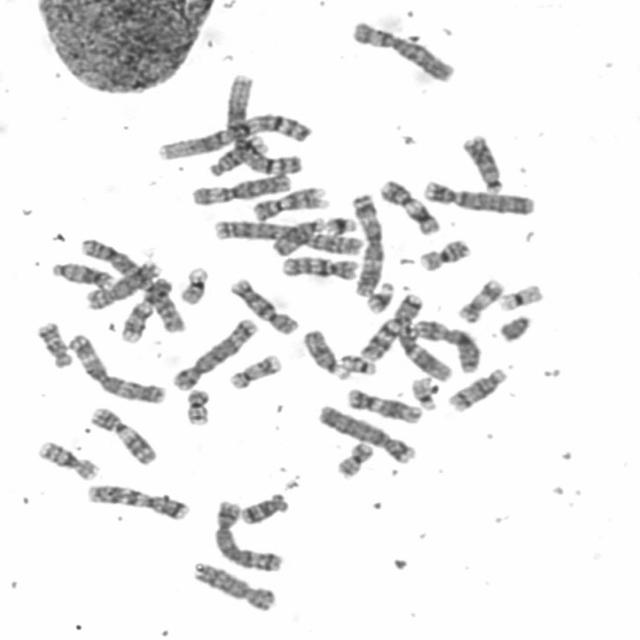A1: (223, 69, 304, 177), (153, 110, 315, 164)
A2: (77, 236, 187, 334), (212, 217, 364, 256)
A3: (65, 330, 168, 400), (348, 194, 386, 298)
B4: (313, 401, 417, 465), (420, 176, 529, 216)
B5: (169, 315, 260, 392), (211, 496, 285, 571)
C10: (226, 275, 299, 337), (278, 253, 360, 281)
C11: (85, 404, 160, 467), (377, 183, 441, 236)
C12: (394, 322, 450, 380), (343, 386, 424, 422)
C6: (347, 16, 459, 84), (192, 170, 292, 206)
C7: (356, 293, 425, 363), (82, 482, 190, 522)
C8: (188, 557, 278, 613), (81, 259, 161, 312)
C9: (117, 274, 176, 344), (253, 185, 325, 222)
D13: (460, 134, 506, 200), (50, 260, 115, 290)
D14: (443, 365, 508, 413), (210, 135, 270, 178)
D15: (300, 326, 351, 382), (268, 214, 327, 258)
E16: (33, 439, 100, 482), (416, 235, 472, 270)
E17: (226, 352, 285, 391), (460, 276, 506, 321)
E18: (237, 491, 290, 528), (34, 316, 74, 364)
F19: (496, 282, 544, 312), (177, 266, 207, 306)
F20: (332, 443, 378, 477), (182, 388, 212, 426)
G21: (362, 282, 396, 316), (322, 214, 359, 233)
G22: (408, 374, 440, 412), (337, 352, 378, 376)
X: (410, 314, 485, 372)
Y: (496, 312, 532, 342)
